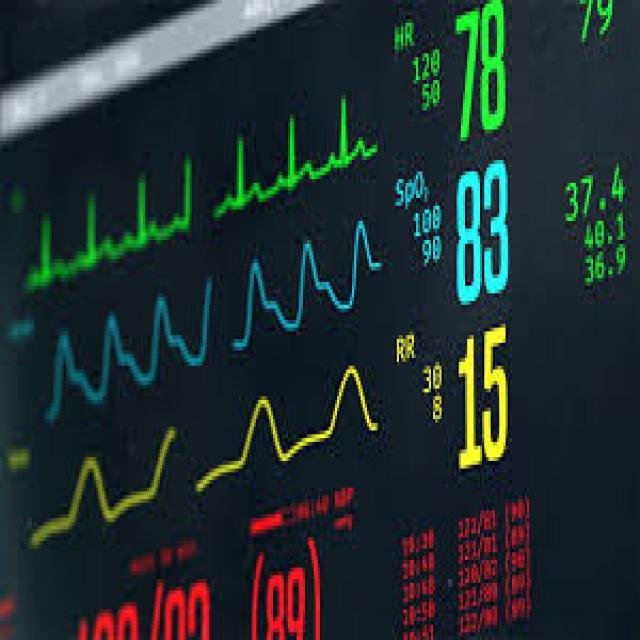cardiac_monitor: (29, 94, 629, 640)
